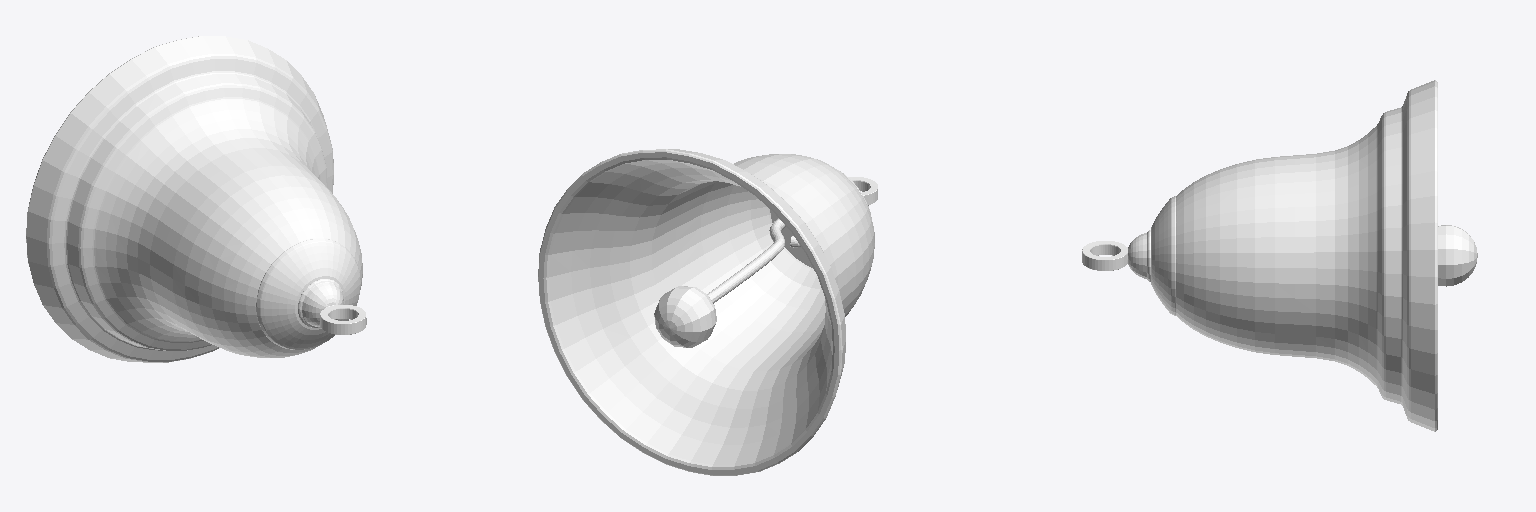
File: bell.obj
The picture shows the model from 3 angles: view 1: azimuth 30°, elevation 25°; view 2: azimuth 150°, elevation 25°; view 3: azimuth 270°, elevation 25°; orthographic projection.
Parts seen in each view (by area): view 1: Object.1; view 2: Object.1; view 3: Object.1.
Part boxes in pixels (x1,y1,x2,y2): Object.1: (26,36,366,362); Object.1: (538,149,877,475); Object.1: (1082,80,1477,431).
Bounding box in the file's own units: 30.43 × 30.43 × 34.26.